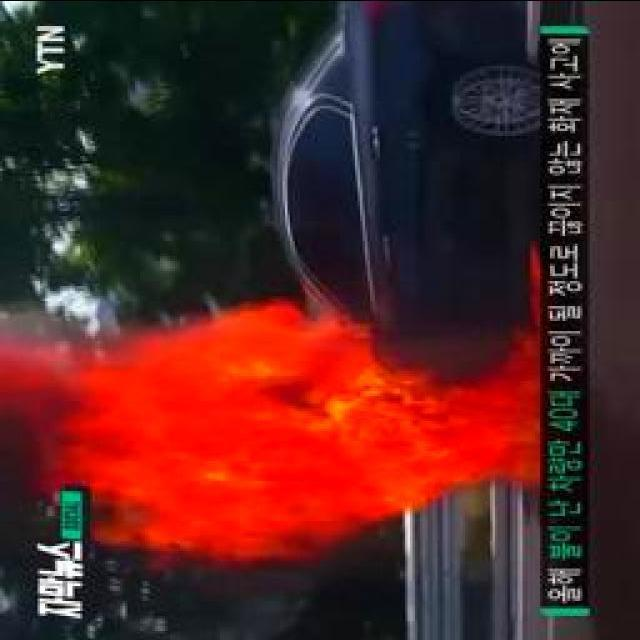Fire: (90, 348, 544, 534)
